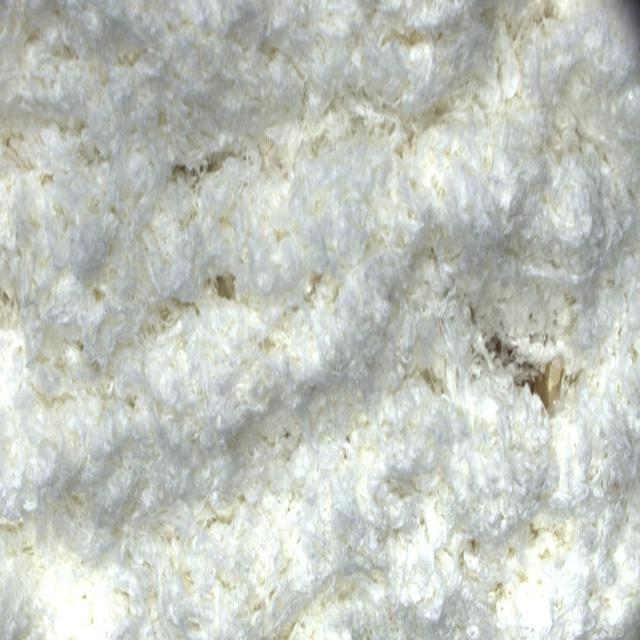dust: (489, 324, 572, 405), (210, 265, 244, 307), (169, 158, 226, 177)
